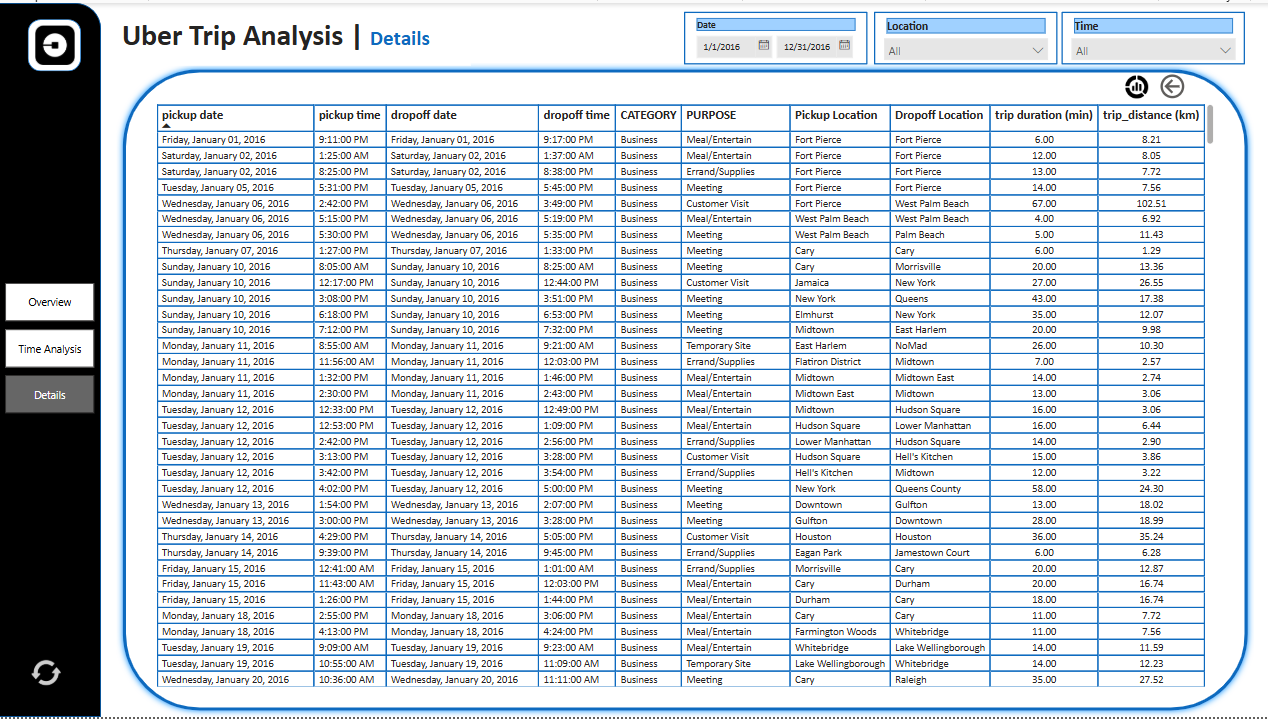

The dashboard page shown, as its layout file describes it:
{"tool":"powerbi","page":{"name":"Details","canvas":[1600,900],"ordinal":2},"visuals":[{"type":"shape","box":[148.1,75.6,1433.6,824.1],"z":0},{"type":"shape","box":[0,0,128.5,899.7],"z":1000},{"type":"shape","box":[35.9,19.9,67.4,65.8],"z":1000,"group":"g1"},{"type":"textbox","box":[149.3,12.1,444.9,66.4],"z":2000},{"type":"group","id":"g1","title":"Group 2","box":[35.9,19.9,67.4,65.8],"z":3000},{"type":"pageNavigator","box":[7.8,352.7,112.9,164.6],"z":4000},{"type":"tableEx","fields":{"Values":["UberDataset.pickup date","UberDataset.pickup time","UberDataset.dropoff date","UberDataset.dropoff time","UberDataset.CATEGORY","UberDataset.PURPOSE","UberDataset.Pickup Location","UberDataset.Dropoff Location","UberDataset.trip duration (min)","UberDataset.trip_distance (km)"]},"box":[192.2,122.9,1343.6,743.5],"z":5000},{"type":"actionButton","box":[1458.3,84.9,41.7,40.1],"z":6000},{"type":"image","box":[1410.5,86.4,47.8,38.6],"z":7000},{"type":"image","box":[40.6,19.9,59.6,65.8],"z":8000,"group":"g1"},{"type":"image","box":[35.5,821,46.3,46.3],"z":8000},{"type":"slicer","fields":{"Values":["UberDataset.pickup date"]},"box":[862.7,10.8,231.5,66.4],"z":9000},{"type":"slicer","fields":{"Values":["UberDataset.Pickup Location"]},"box":[1101.9,10.8,231.5,66.4],"z":10000},{"type":"slicer","fields":{"Values":["UberDataset.pickup time"]},"box":[1339.5,10.8,231.5,66.4],"z":11000}]}

Visuals, with their boxes on the page's 1600x900 design canvas (x1, y1, x2, y2). These are canvas units, not pixel positions in the 1268x720 screenshot, which may show the page scaled, cropped or inside an application window:
shape: (x1=148, y1=76, x2=1582, y2=900)
shape: (x1=0, y1=0, x2=128, y2=900)
shape: (x1=36, y1=20, x2=103, y2=86)
textbox: (x1=149, y1=12, x2=594, y2=78)
"Group 2" group: (x1=36, y1=20, x2=103, y2=86)
pageNavigator: (x1=8, y1=353, x2=121, y2=517)
tableEx - UberDataset.pickup date x UberDataset.pickup time: (x1=192, y1=123, x2=1536, y2=866)
actionButton: (x1=1458, y1=85, x2=1500, y2=125)
image: (x1=1410, y1=86, x2=1458, y2=125)
image: (x1=41, y1=20, x2=100, y2=86)
image: (x1=36, y1=821, x2=82, y2=867)
slicer - UberDataset.pickup date: (x1=863, y1=11, x2=1094, y2=77)
slicer - UberDataset.Pickup Location: (x1=1102, y1=11, x2=1333, y2=77)
slicer - UberDataset.pickup time: (x1=1340, y1=11, x2=1571, y2=77)
